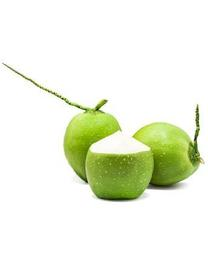coconut: (130, 112, 202, 185), (63, 104, 124, 182), (86, 130, 151, 201)
